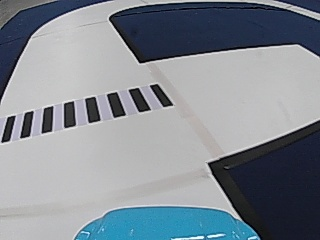CrossWalk: (2, 82, 172, 140)
